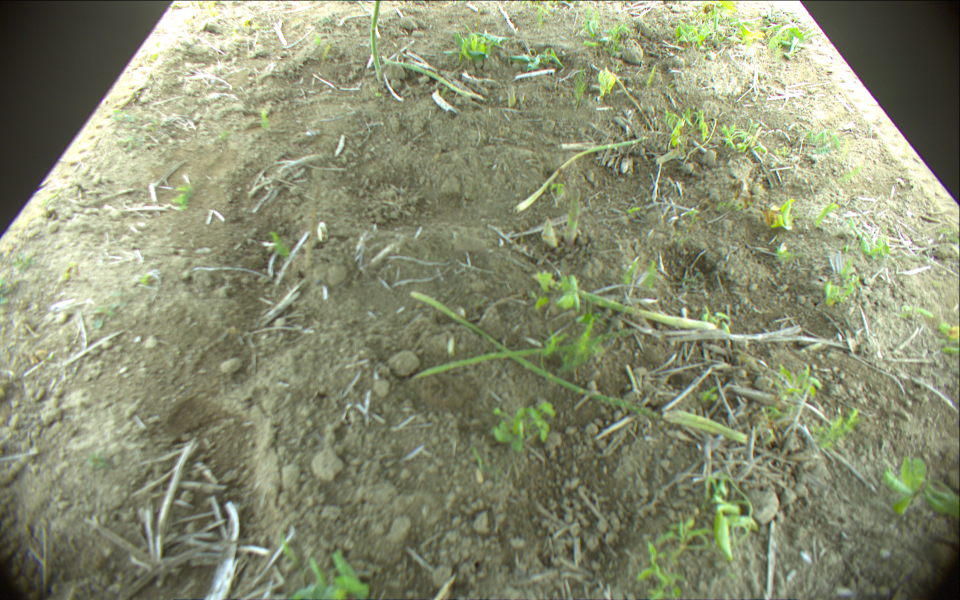aspa: (410, 290, 664, 418), (414, 327, 645, 383), (516, 135, 649, 214), (540, 275, 717, 334), (379, 61, 484, 100), (668, 410, 754, 447), (563, 185, 581, 240), (373, 1, 382, 82)
